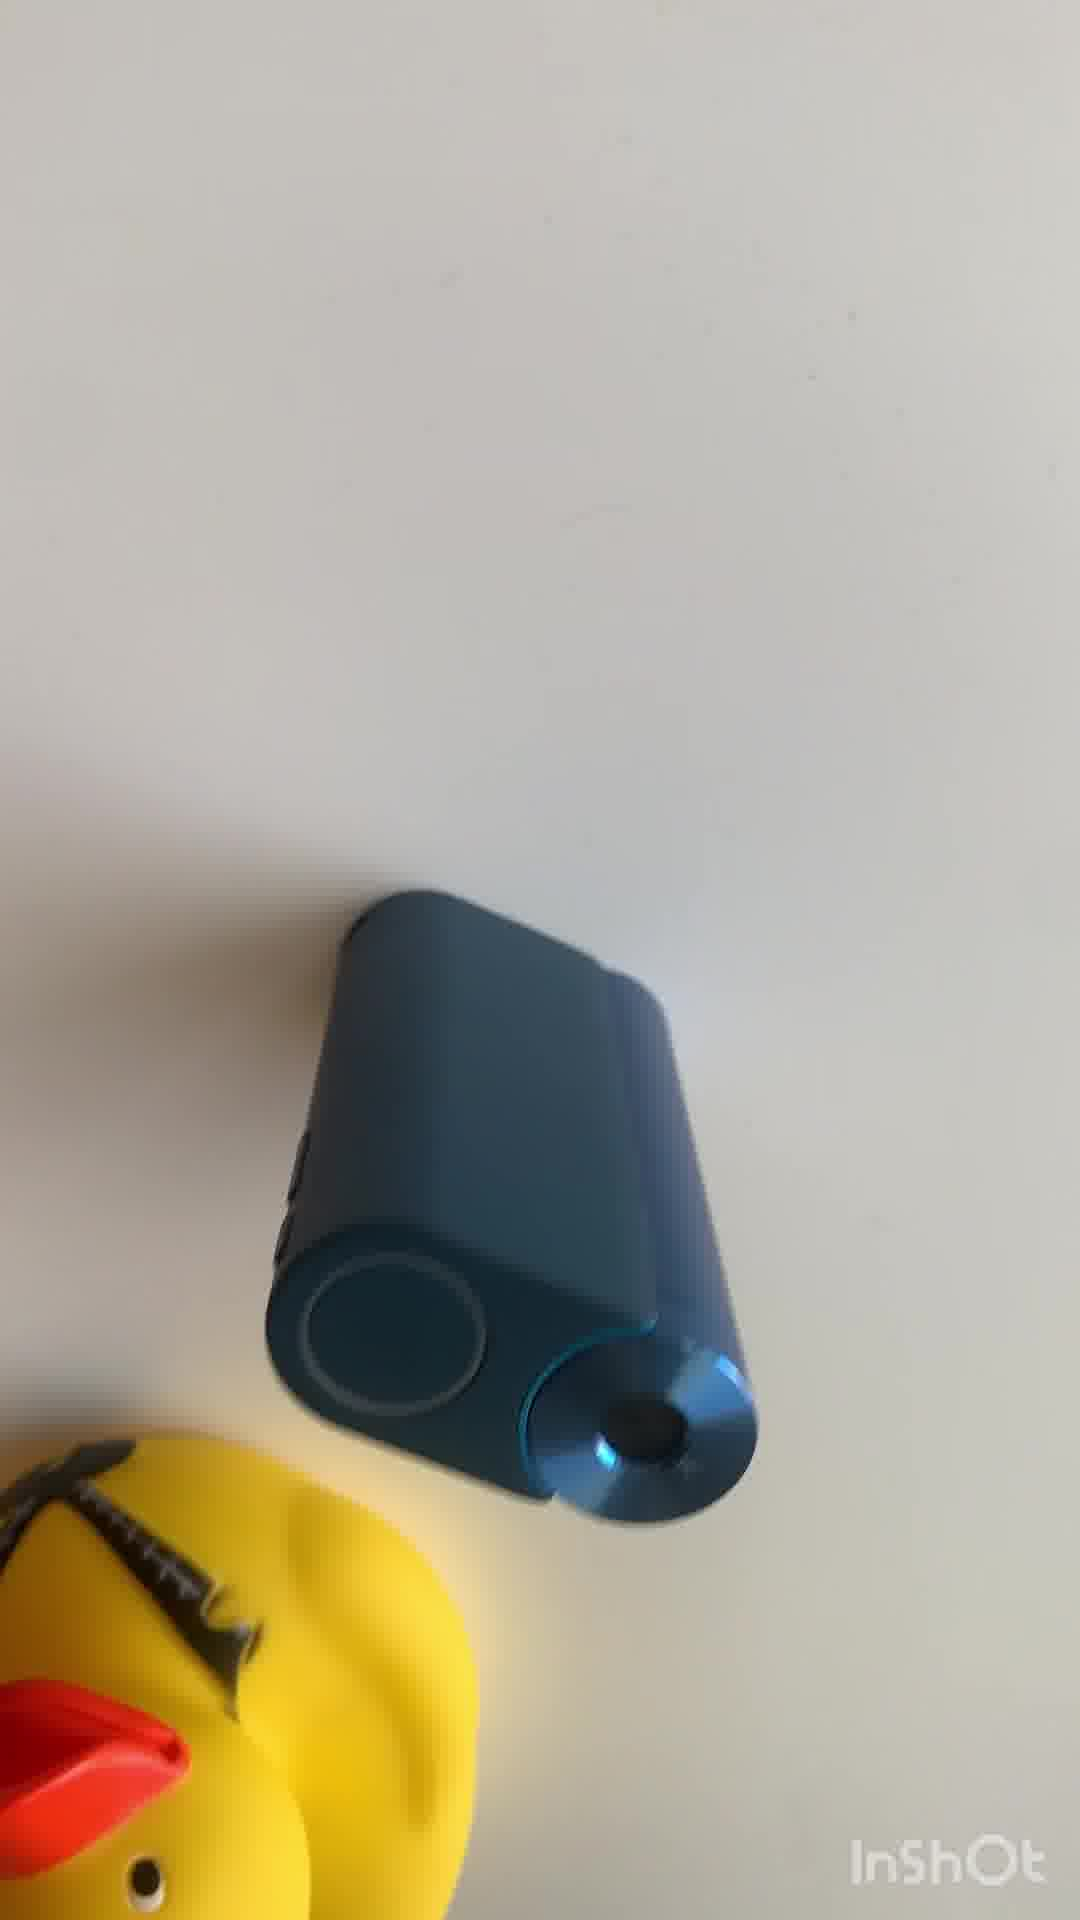duck: (1, 1422, 483, 1920)
glo: (258, 887, 762, 1531)
